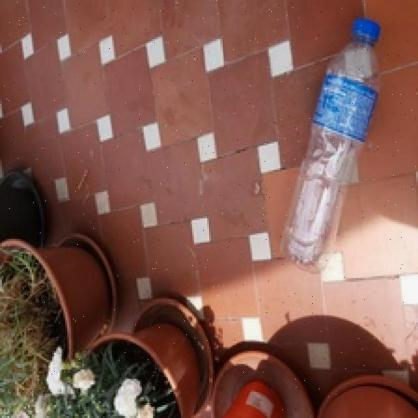bottle: (275, 12, 388, 277)
cap: (348, 16, 387, 42)
label: (301, 79, 381, 139)
